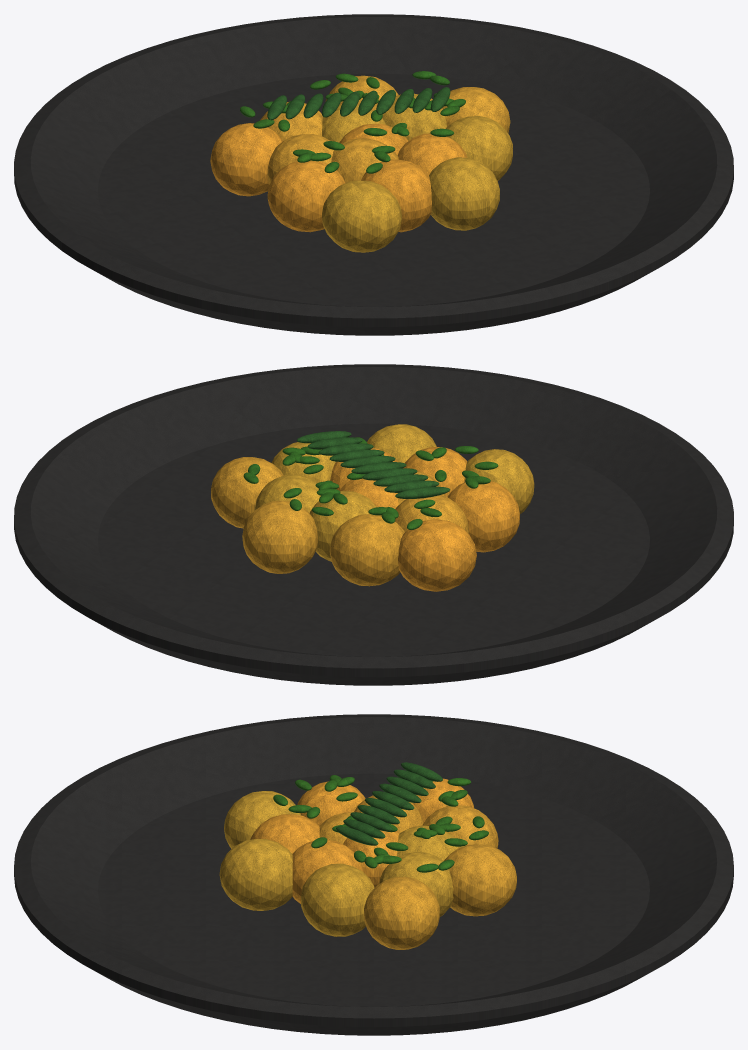
The model's file is papas-romero.glb.
The picture shows the model from 3 angles, top to bottom: view 1: azimuth 30°, elevation 25°; view 2: azimuth 150°, elevation 25°; view 3: azimuth 270°, elevation 25°; orthographic projection.
Parts seen in each view (by area): view 1: part0, part3, part1, part2, part4, part5; view 2: part0, part2, part1, part3, part5, part4; view 3: part0, part3, part2, part1, part4, part5.
Part boxes in pixels (x1,y1,x2,y2): part0: [14, 14, 733, 335]; part3: [322, 93, 512, 252]; part1: [210, 123, 467, 232]; part2: [260, 75, 510, 184]; part4: [240, 71, 465, 173]; part5: [267, 87, 450, 120]; part0: [14, 364, 733, 685]; part2: [211, 457, 469, 586]; part1: [330, 447, 519, 591]; part3: [254, 424, 534, 561]; part5: [296, 431, 450, 498]; part4: [243, 437, 498, 529]; part0: [14, 714, 733, 1035]; part3: [219, 791, 461, 936]; part2: [319, 795, 516, 949]; part1: [250, 778, 473, 903]; part4: [273, 775, 488, 872]; part5: [336, 762, 442, 845].
Size of the model in its own units: 0.3 by 0.052 by 0.3.
Materials: 6 (6 with a texture image).
